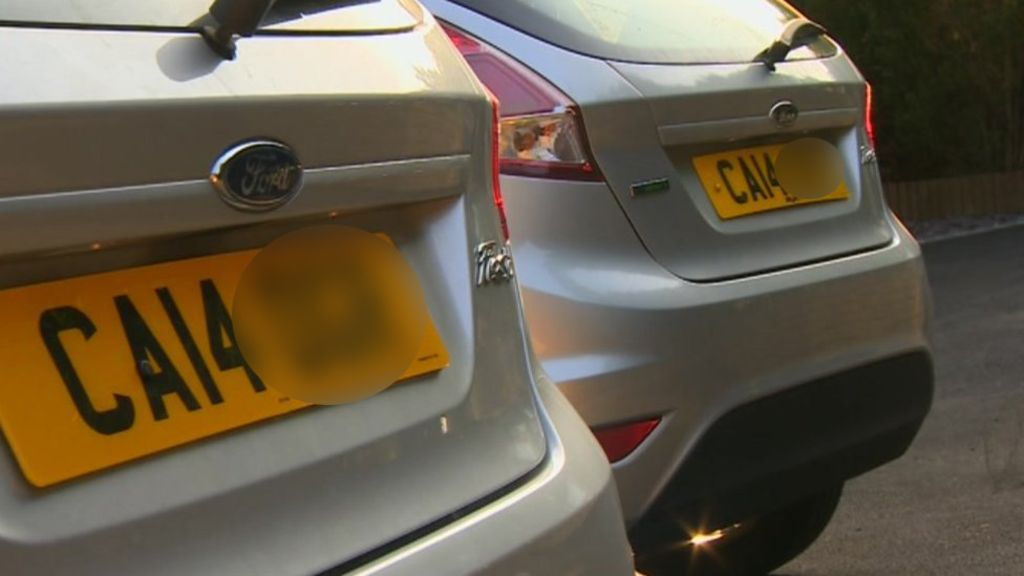license plate: (13, 222, 454, 481), (696, 130, 845, 222)
